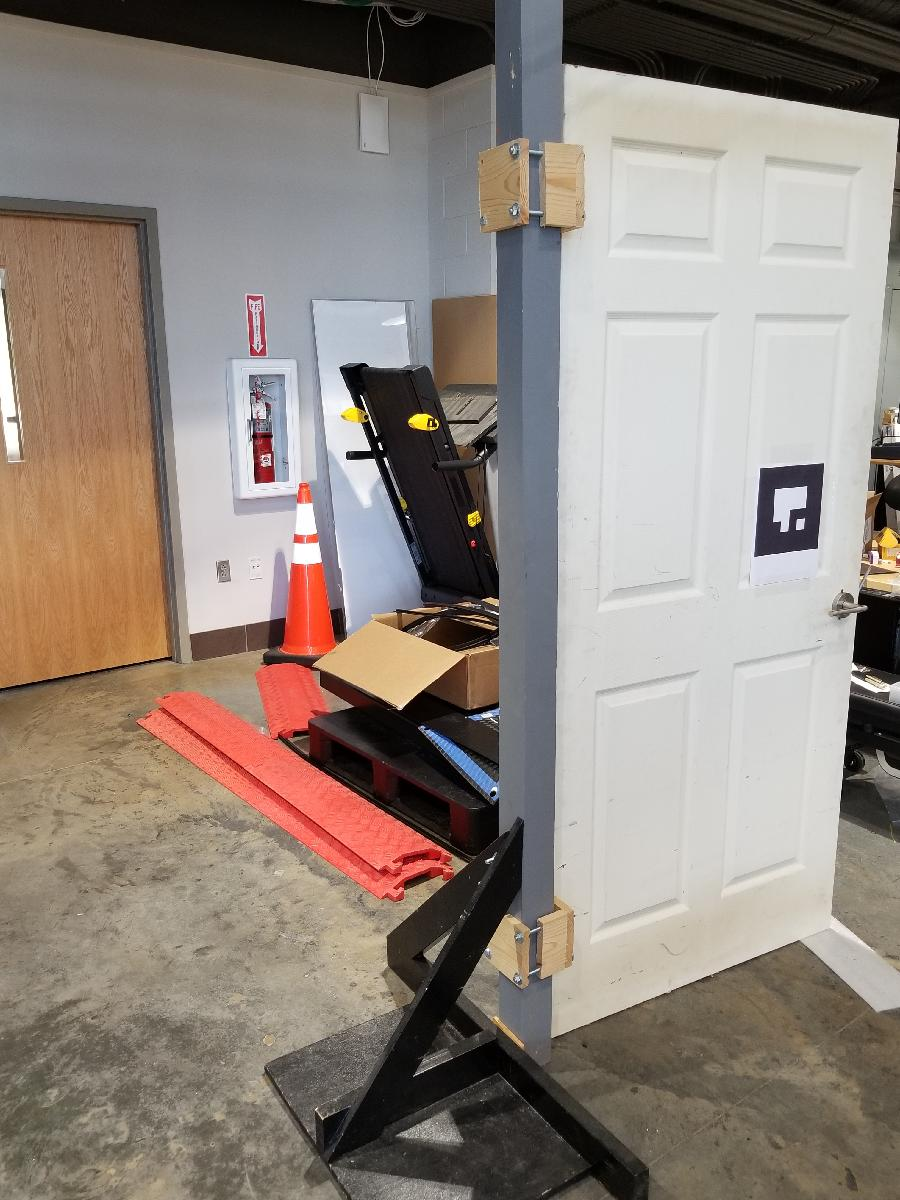door: (545, 60, 900, 1040)
doorHandle: (820, 585, 869, 628)
